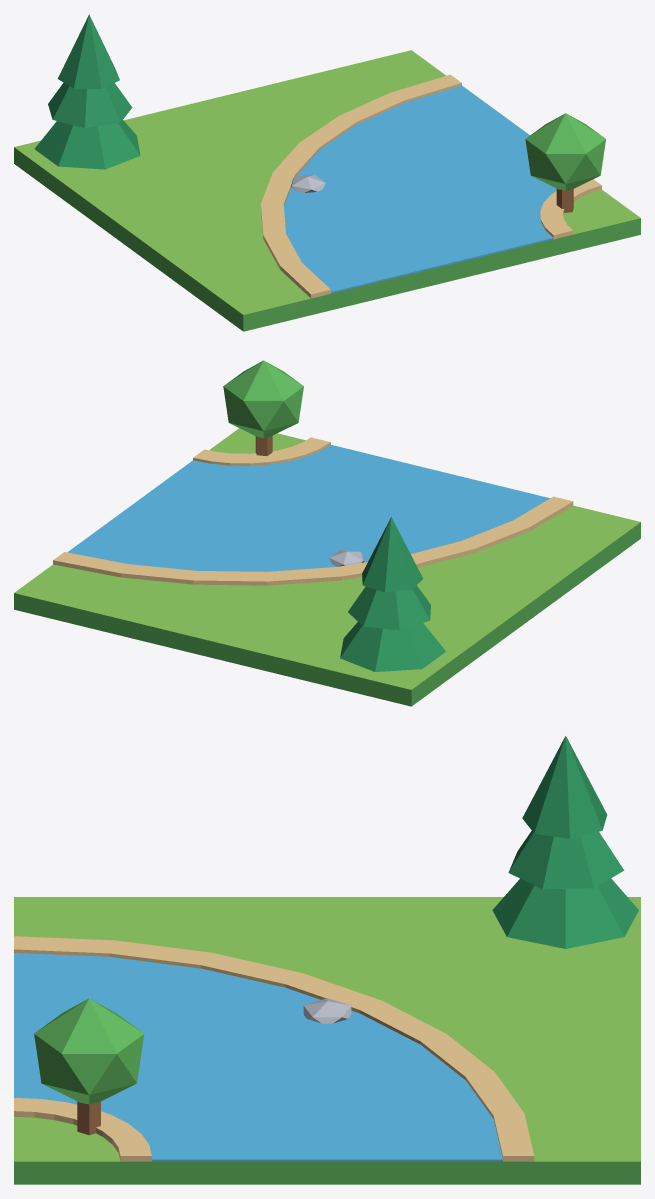
File: nature_river_corner.glb
3 renders of one model, top to bottom at view 1: azimuth 30°, elevation 25°; view 2: azimuth 150°, elevation 25°; view 3: azimuth 270°, elevation 25°, orthographic. The views are drawn at different scales.
Parts seen in each view (by area): view 1: nature_river_corner; view 2: nature_river_corner; view 3: nature_river_corner.
Part boxes in pixels (x1,y1,x2,y2): nature_river_corner: [14, 14, 640, 331]; nature_river_corner: [14, 360, 640, 706]; nature_river_corner: [14, 736, 640, 1184].
Bounding box in the file's own units: 1 × 0.38 × 1.
